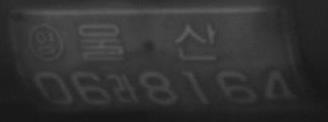0: (32, 69, 72, 105)
1: (178, 70, 211, 105)
4: (262, 67, 300, 106)
6: (214, 68, 257, 105), (73, 70, 110, 107)
8: (143, 70, 177, 105)
라: (110, 72, 142, 104)
영: (27, 22, 64, 64)
울산_D: (78, 21, 219, 62)
